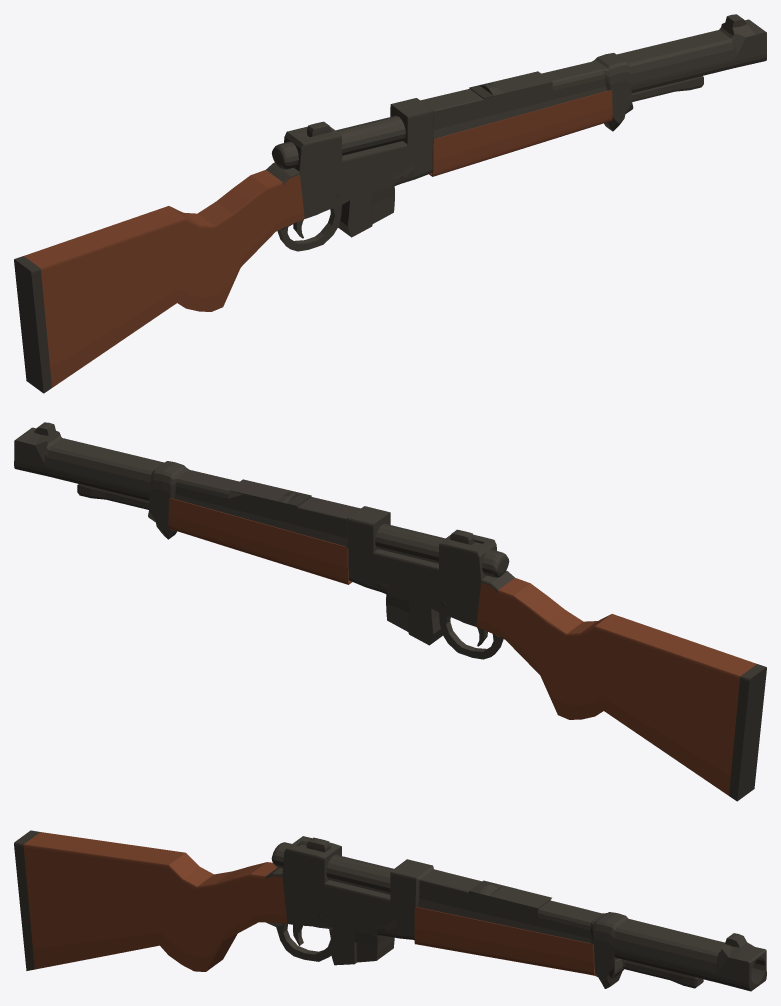
File: Sniper.fbx
3 views of the same model, one above another, from view 1: azimuth 30°, elevation 25°; view 2: azimuth 150°, elevation 25°; view 3: azimuth 330°, elevation 25° (orthographic).
Visible parts, largest first — view 1: Cube; view 2: Cube; view 3: Cube.
Part boxes in pixels (box(x1,y1,x2,y2)): Cube: box(14, 14, 766, 393); Cube: box(14, 422, 766, 801); Cube: box(14, 830, 766, 991).
Size of the model in its own units: 124 by 32.02 by 5.42.
